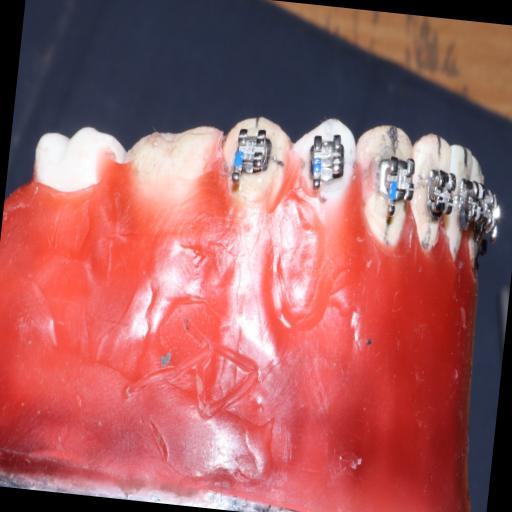correct_brace: (289, 114, 359, 208)
incorrect_brace: (308, 132, 346, 183)
